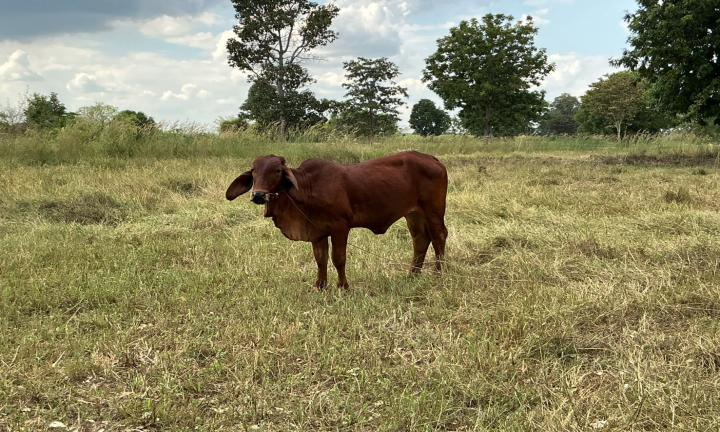Brahman: (226, 151, 448, 289)
